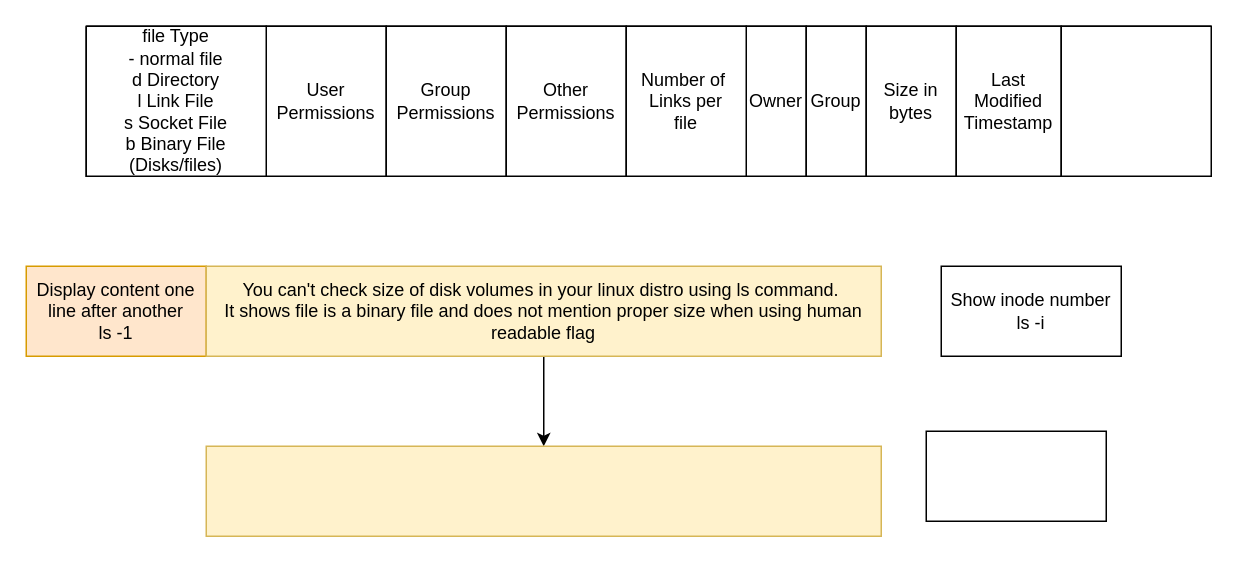
The diagram is 1238 pixels wide and 563 high, and some of its shapes have lost their labels. Each missing label, with the centre of its shape:
FileName: (x=1135, y=100)
Using the ls command on /dev/sd* we can surely say when our disk/volume was used: (x=543, y=490)
